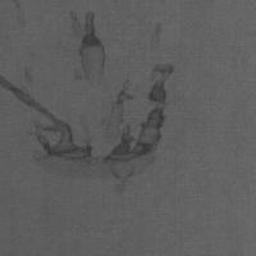Water spot: (0, 61, 175, 197), (68, 9, 108, 88), (10, 0, 29, 27), (150, 20, 163, 54)
